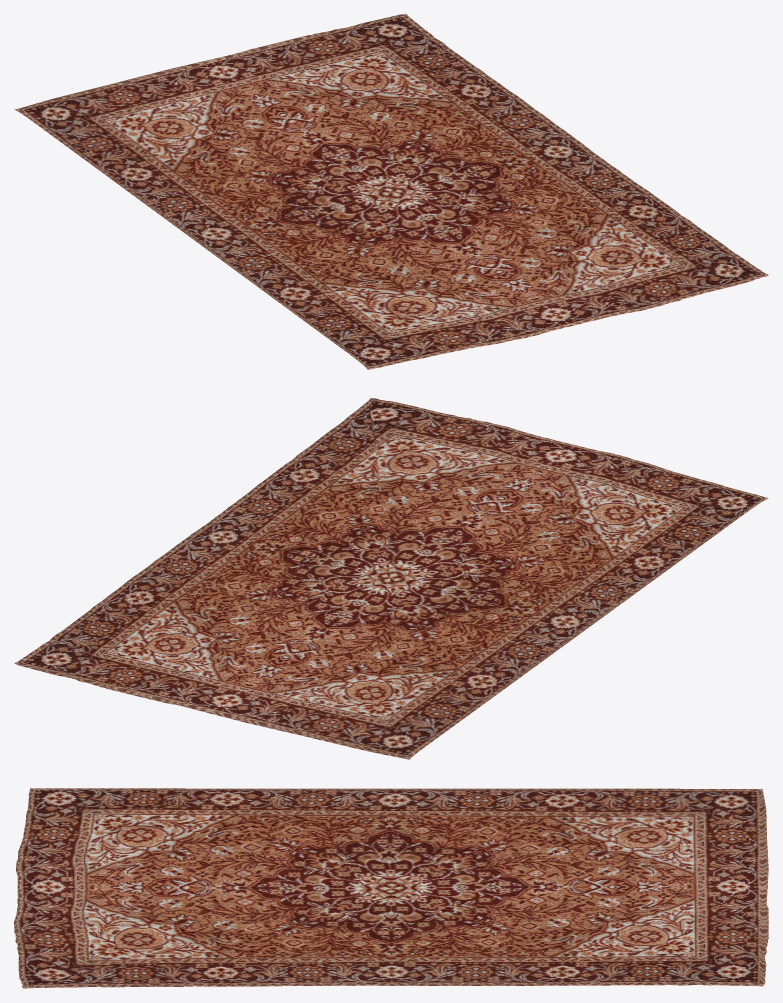
Rendered from Rug2.fbx.
3 renders of one model, top to bottom at view 1: azimuth 30°, elevation 25°; view 2: azimuth 150°, elevation 25°; view 3: azimuth 270°, elevation 25°, orthographic. The views are drawn at different scales.
Visible parts, largest first — view 1: Plane.001; view 2: Plane.001; view 3: Plane.001.
Part boxes in pixels (<box>): Plane.001: <box>14,14,768,369</box>; Plane.001: <box>14,398,768,759</box>; Plane.001: <box>14,788,768,988</box>.
Bounding box in the file's own units: 328 × 0.463 × 521.
